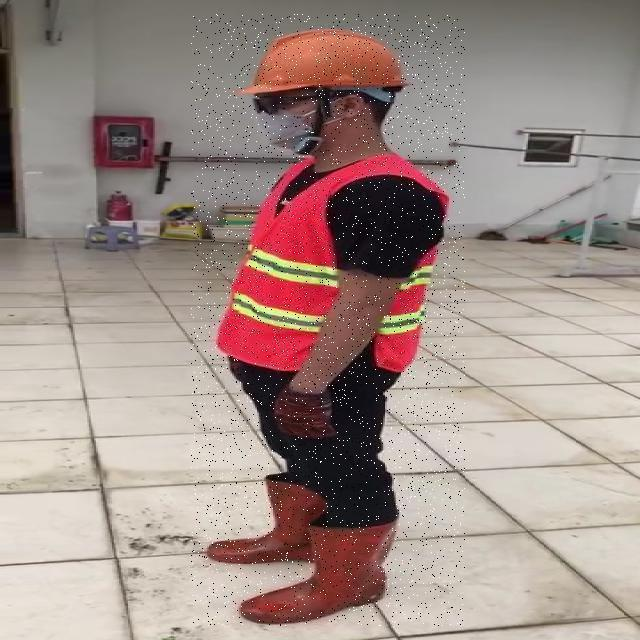helmet: (246, 24, 414, 94)
safety_vest: (207, 162, 459, 368)
